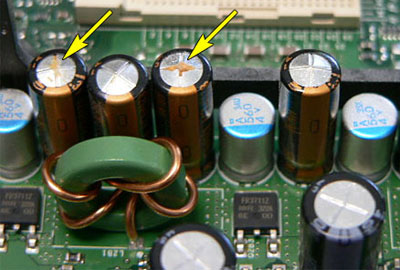capacitor: (291, 167, 387, 262), (146, 42, 216, 164), (275, 45, 339, 171), (26, 38, 89, 147), (85, 42, 151, 146)
